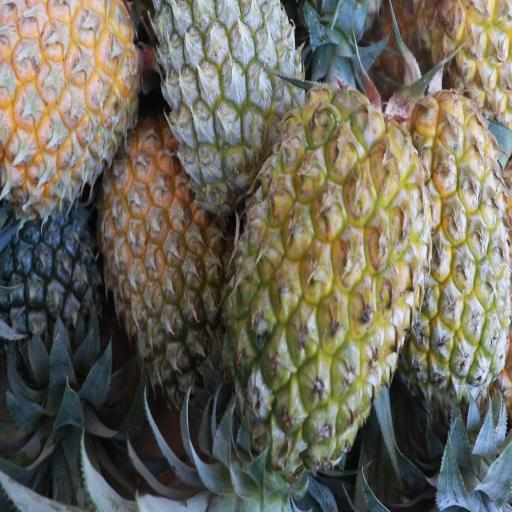------------------------------: (106, 131, 221, 391)
Pineapple - v8 v1: (224, 96, 426, 452), (394, 92, 508, 399), (0, 0, 137, 201)
